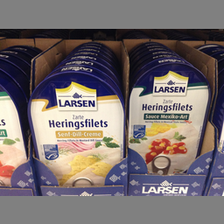fish: (28, 66, 125, 188), (128, 59, 212, 175)
